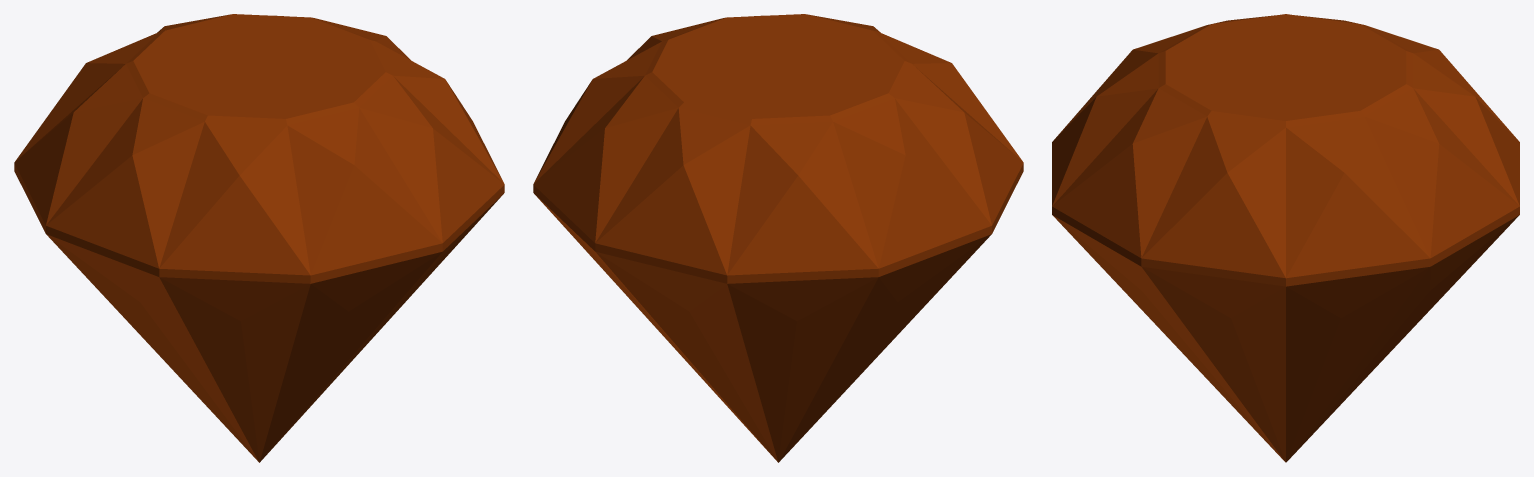
The model's file is Poker_Color4.fbx.
The picture shows the model from 3 angles, left to right: view 1: azimuth 30°, elevation 25°; view 2: azimuth 150°, elevation 25°; view 3: azimuth 270°, elevation 25°; orthographic projection.
Visible parts, largest first — view 1: Poker_Color4; view 2: Poker_Color4; view 3: Poker_Color4.
Boxes of the visible parts, x1,y1,x2,y2 form: Poker_Color4: (14,14,504,462); Poker_Color4: (533,14,1023,462); Poker_Color4: (1052,14,1519,462).
Size of the model in its own units: 1.99 by 1.76 by 1.89.
